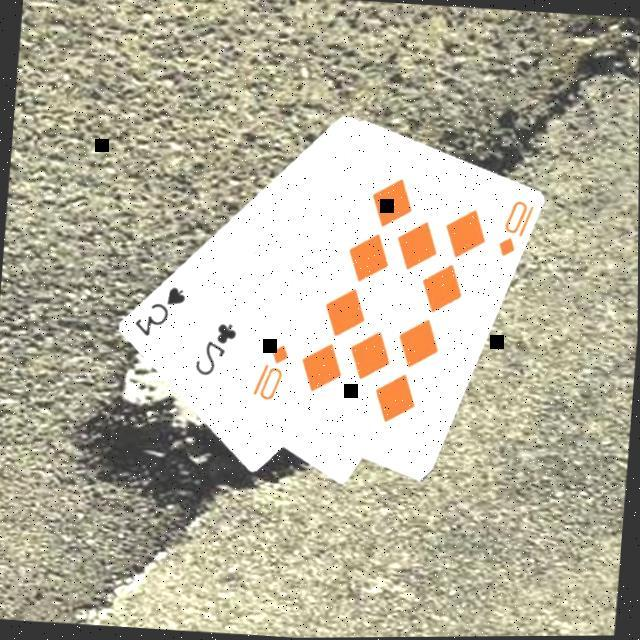10D: (491, 197, 535, 264), (246, 340, 290, 406)
2C: (188, 318, 238, 381)
3S: (127, 280, 187, 342)
